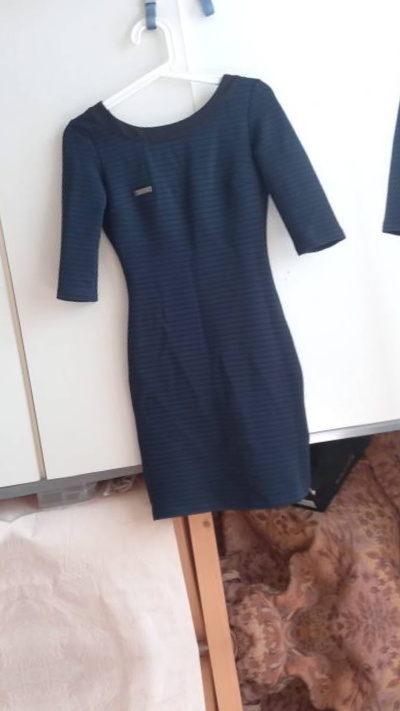Dress: (5, 35, 394, 586), (350, 0, 400, 531), (111, 695, 400, 711)
